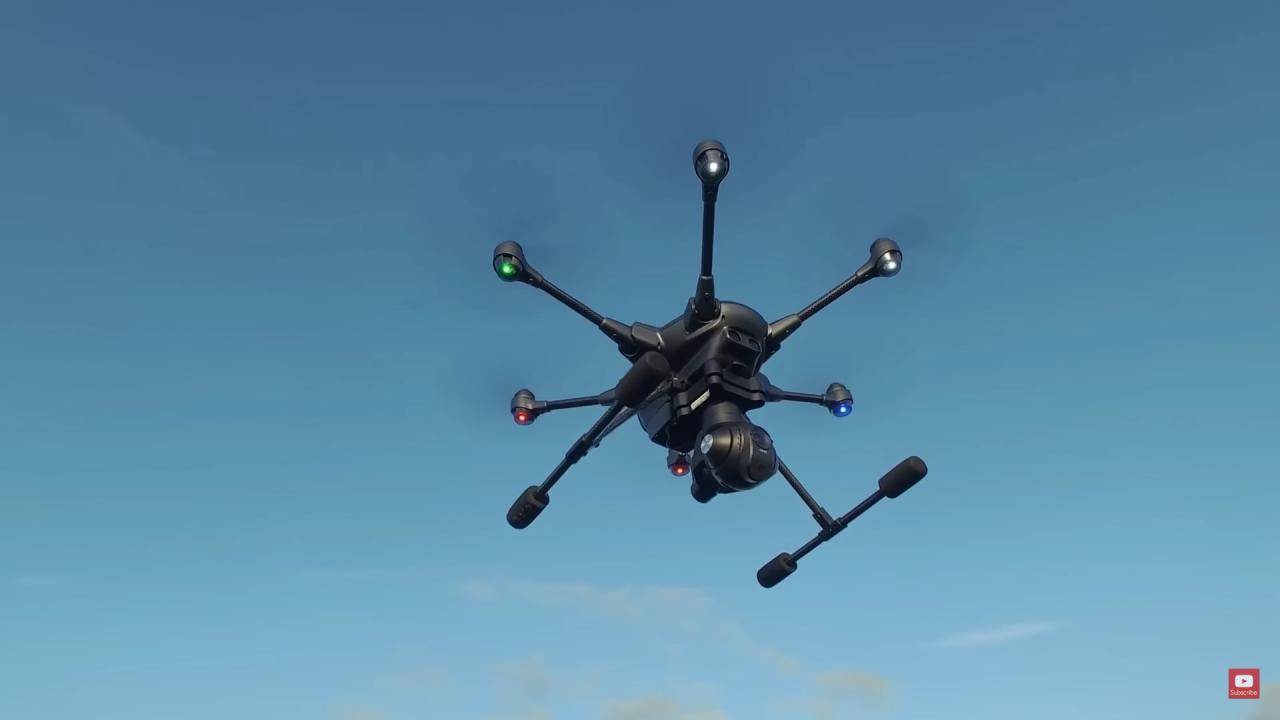Drone: (438, 108, 982, 613)
